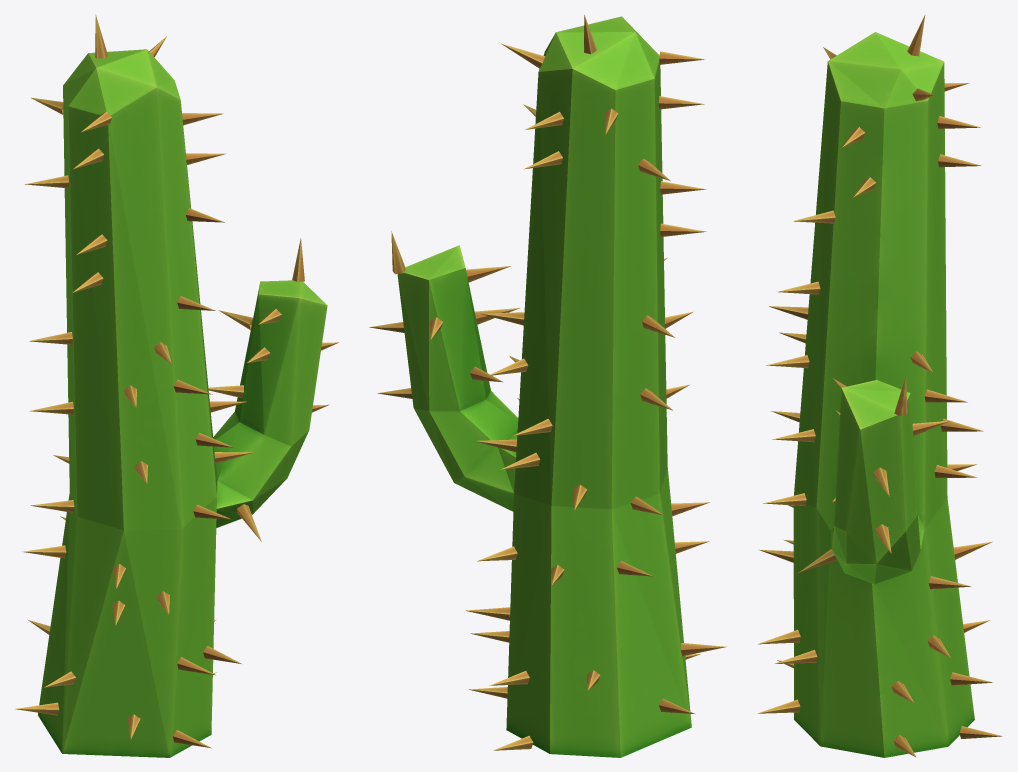
The model's file is Cactus_28.fbx.
The picture shows the model from 3 angles, left to right: view 1: azimuth 30°, elevation 25°; view 2: azimuth 150°, elevation 25°; view 3: azimuth 270°, elevation 25°; orthographic projection. The views are drawn at different scales.
Visible parts, largest first — view 1: Cactus_28; view 2: Cactus_28; view 3: Cactus_28.
Part boxes in pixels (box(x1,y1,x2,y2)): Cactus_28: box(15, 14, 338, 757); Cactus_28: box(369, 15, 726, 757); Cactus_28: box(757, 15, 1002, 757).
Size of the model in its own units: 30.63 by 20.3 by 64.05.
1 material, 1 textured.
